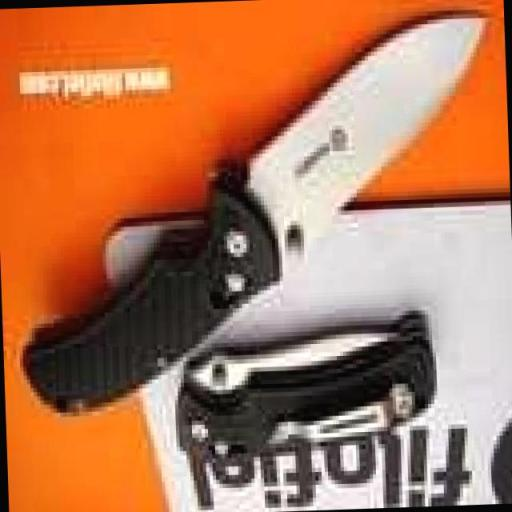knife: (2, 7, 508, 460)
